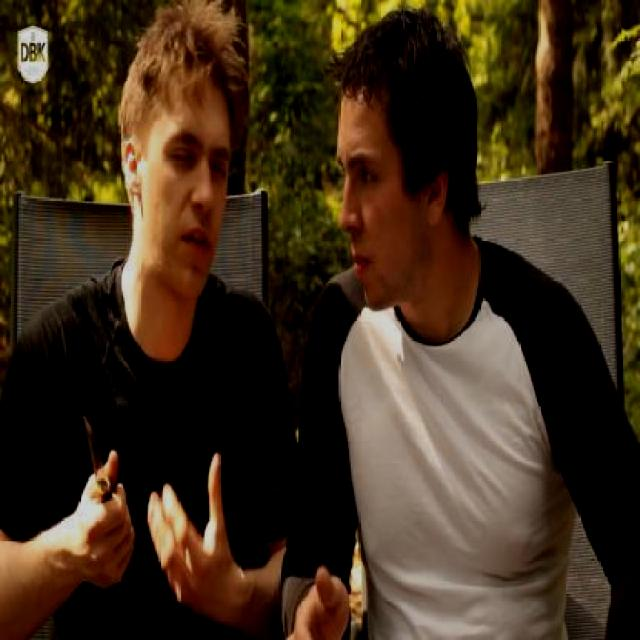knife: (64, 390, 138, 564)
